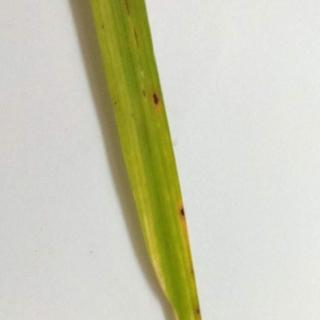bercak-Cokelat: (116, 0, 152, 54), (177, 201, 195, 230), (147, 83, 165, 110), (189, 297, 205, 320)
